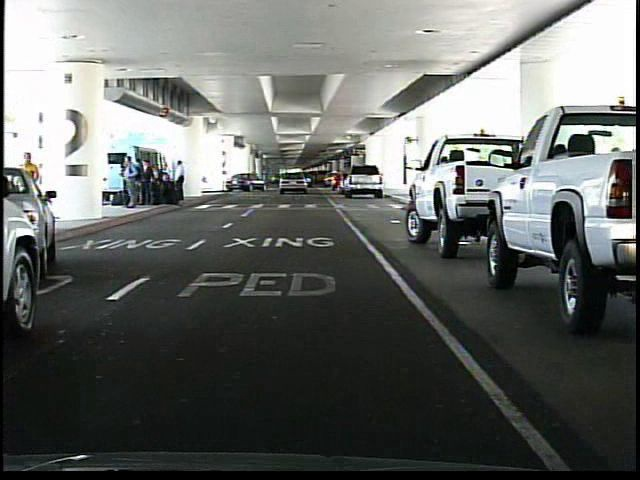person: (5, 148, 45, 237)
